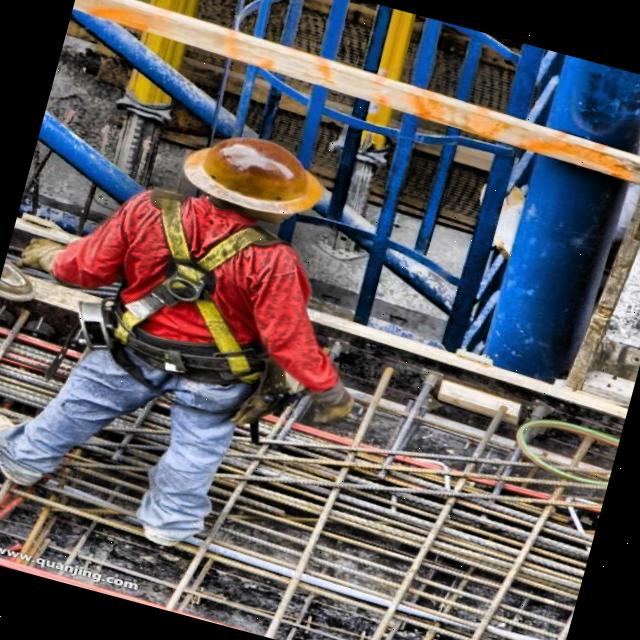helmet: (140, 105, 340, 272)
